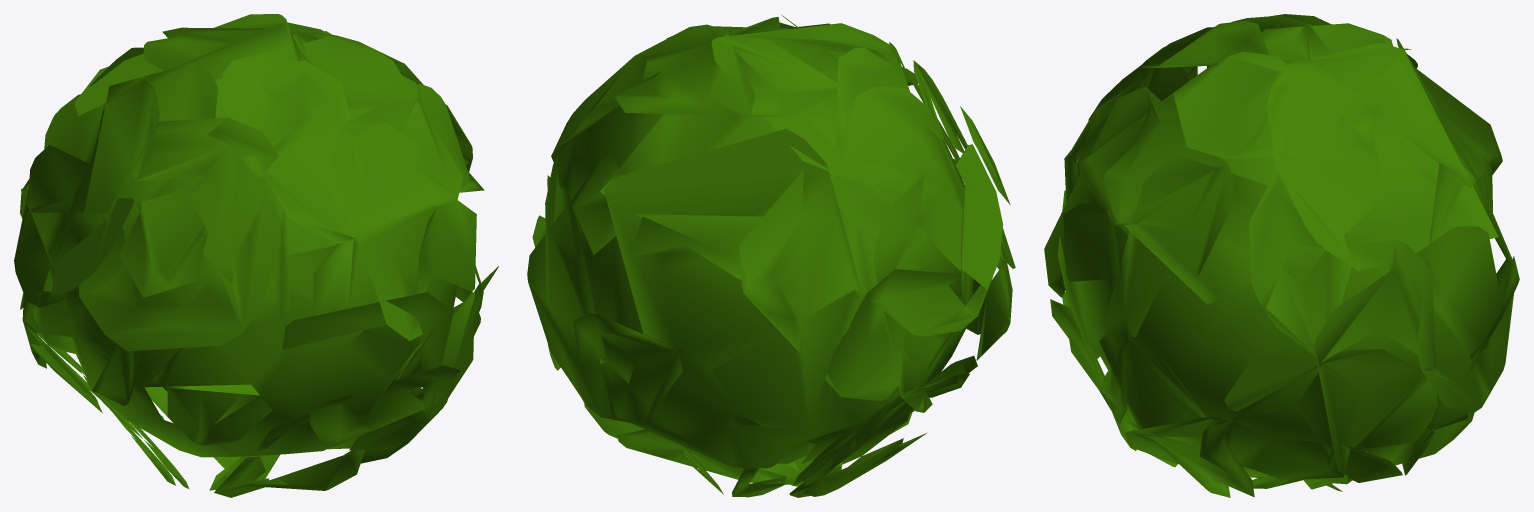
File: SM_Bush_0.fbx
The picture shows the model from 3 angles, left to right: view 1: azimuth 30°, elevation 25°; view 2: azimuth 150°, elevation 25°; view 3: azimuth 270°, elevation 25°; orthographic projection.
Parts seen in each view (by area): view 1: null2; view 2: null2; view 3: null2.
Part boxes in pixels (bbox=[...]): null2: bbox=[14, 14, 498, 497]; null2: bbox=[527, 14, 1015, 497]; null2: bbox=[1044, 14, 1519, 497].
Size of the model in its own units: 1.71 by 1.7 by 1.65.
